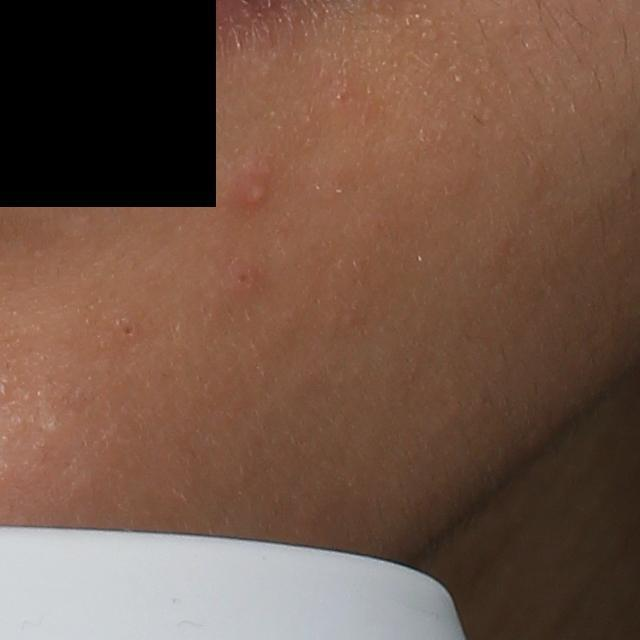comedo: (117, 315, 140, 343)
papule: (223, 257, 267, 302)
